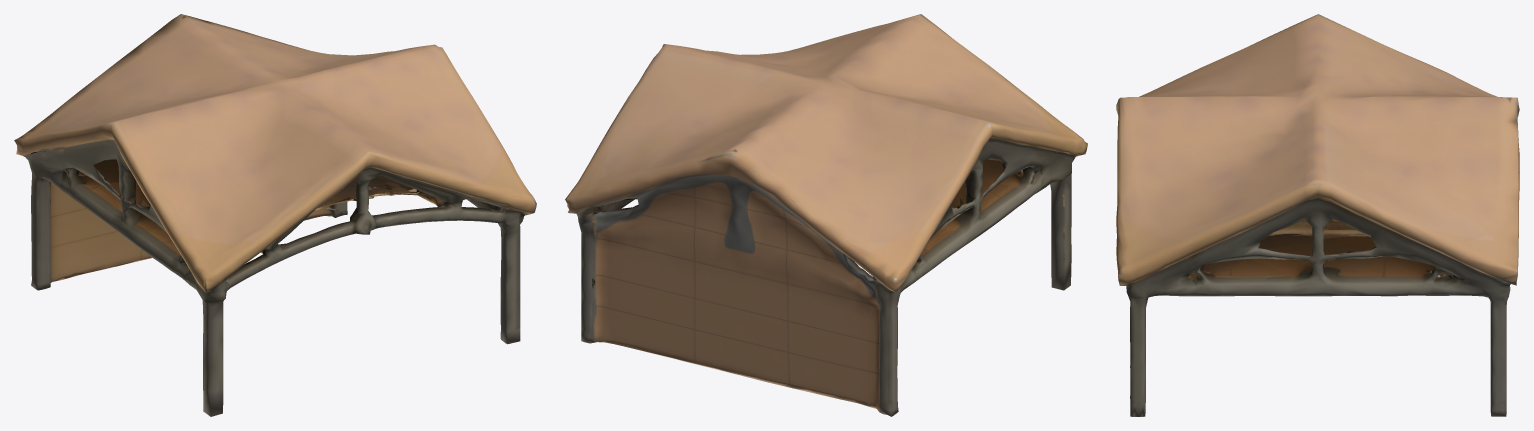
Rendered from 04ShedBase2.fbx.
3 renders of one model, left to right at view 1: azimuth 30°, elevation 25°; view 2: azimuth 150°, elevation 25°; view 3: azimuth 270°, elevation 25°, orthographic. The views are drawn at different scales.
Visible parts, largest first — view 1: Mesh_0; view 2: Mesh_0; view 3: Mesh_0.
Part boxes in pixels (x1,y1,x2,y2): Mesh_0: (14, 14, 536, 416); Mesh_0: (565, 14, 1087, 416); Mesh_0: (1116, 14, 1519, 416).
Size of the model in its own units: 191 by 126 by 191.
1 material, 1 textured.
